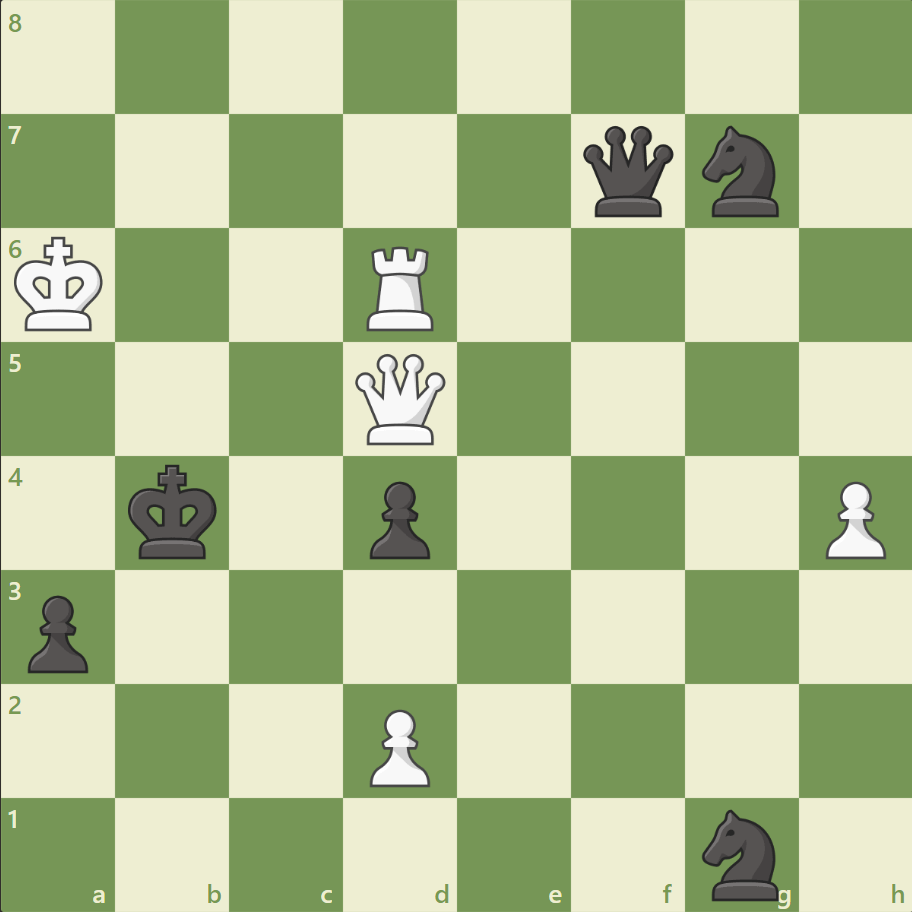K: (11, 231, 111, 339)
P: (815, 473, 889, 564), (361, 700, 435, 791)
Q: (351, 349, 450, 449)
R: (360, 239, 442, 336)
k: (124, 458, 224, 566)
n: (692, 121, 789, 223), (692, 802, 789, 904)
p: (20, 586, 95, 677), (361, 473, 435, 564)
q: (578, 122, 677, 222)
